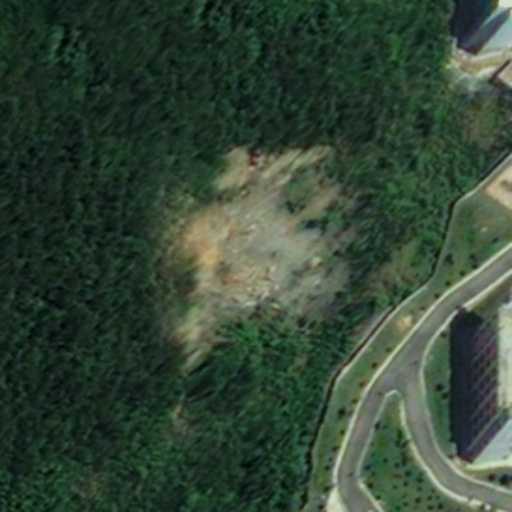landslide: (179, 143, 342, 330)
